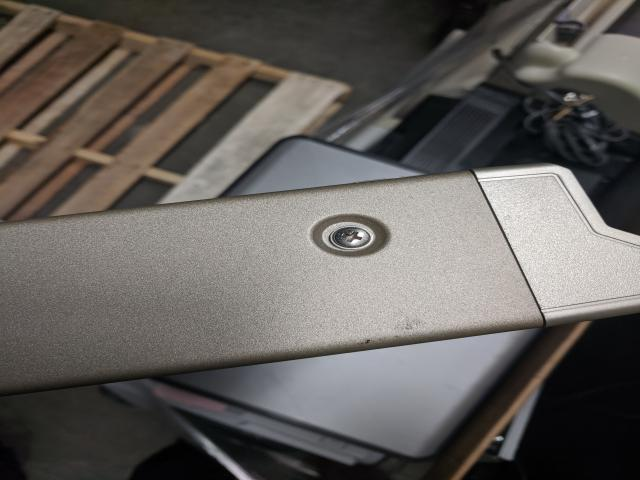CRS: (330, 225, 369, 248)
